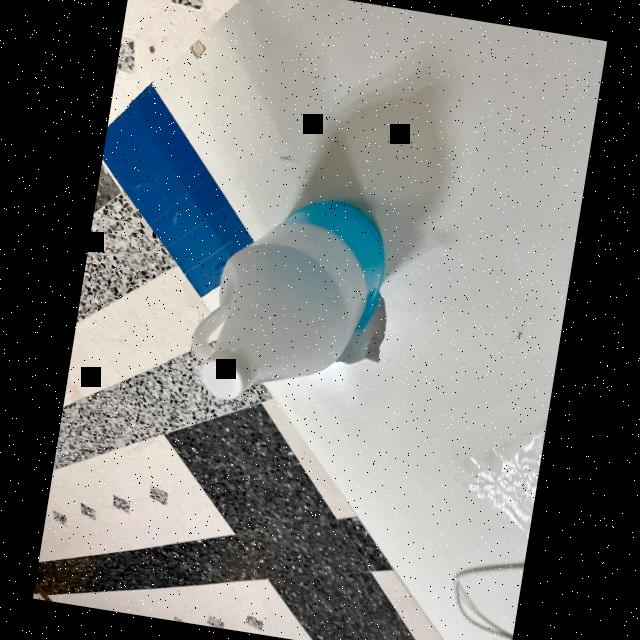chemical_plastic_gallon: (168, 164, 417, 452)
